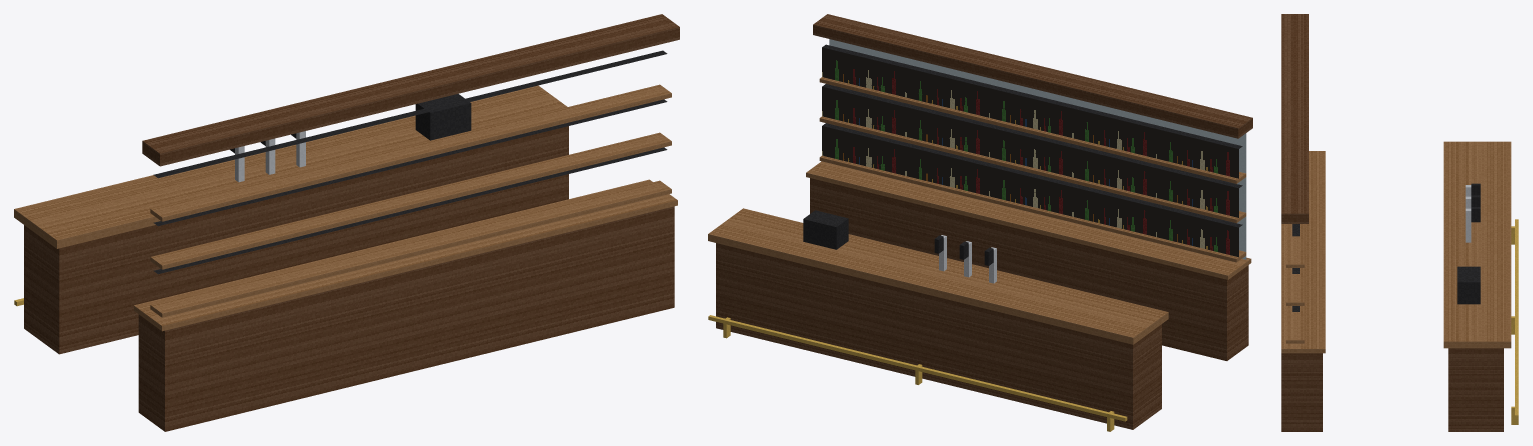
File: bar_counter.glb
3 renders of one model, left to right at view 1: azimuth 30°, elevation 25°; view 2: azimuth 150°, elevation 25°; view 3: azimuth 270°, elevation 25°, orthographic. The views are drawn at different scales.
Visible parts, largest first — view 1: bar_counter; view 2: bar_counter; view 3: bar_counter.
Part boxes in pixels (x1,y1,x2,y2): bar_counter: (14,14,679,431); bar_counter: (708,14,1252,431); bar_counter: (1281,14,1518,431).
Bounding box in the file's own units: 5.1 × 2.62 × 2.56.
Materials: 7 (7 with a texture image).
